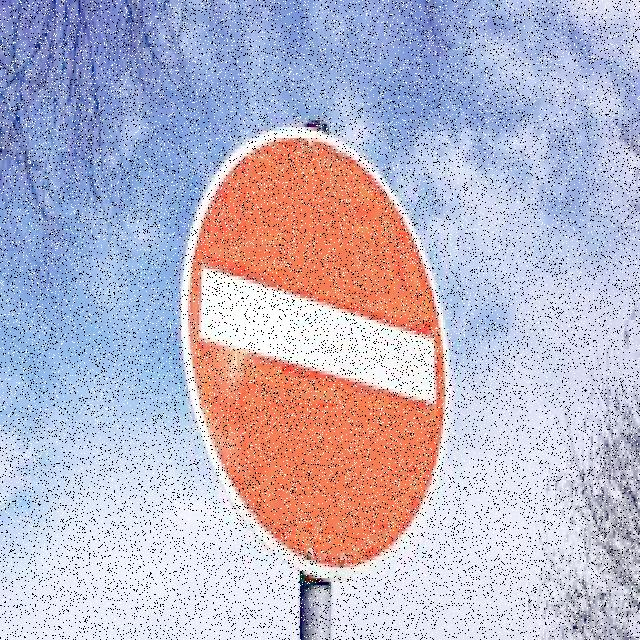no entry: (192, 135, 446, 560)
